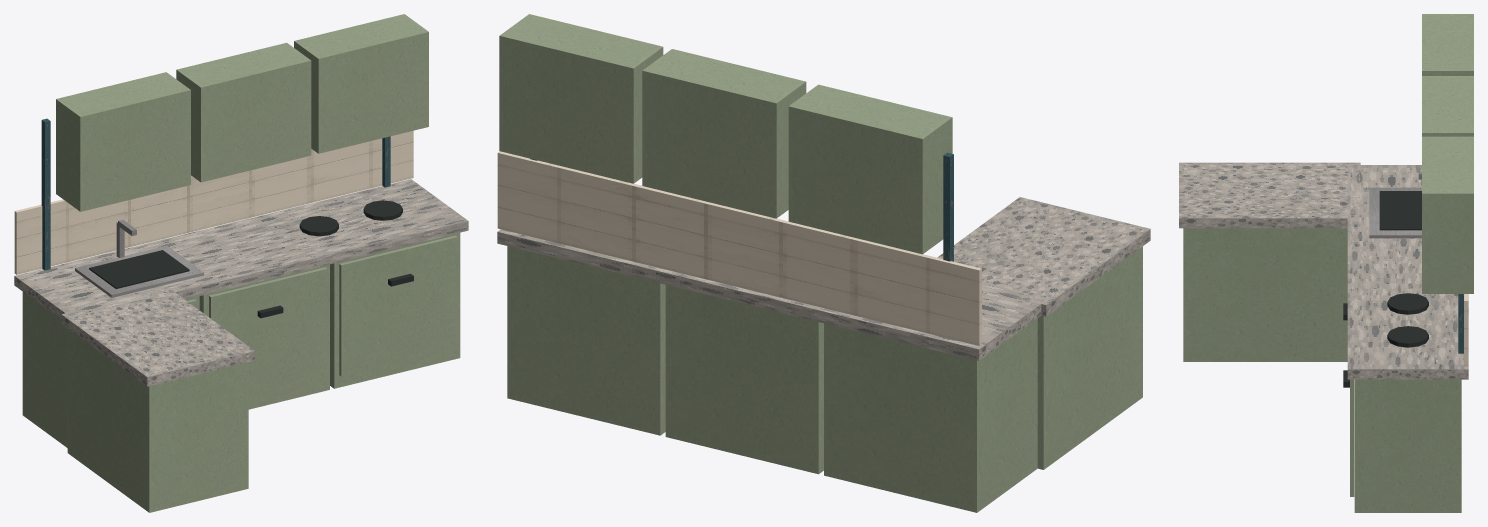
File: city_kitchen.glb
The picture shows the model from 3 angles, left to right: view 1: azimuth 30°, elevation 25°; view 2: azimuth 150°, elevation 25°; view 3: azimuth 270°, elevation 25°; orthographic projection. The views are drawn at different scales.
Parts seen in each view (by area): view 1: root; view 2: root; view 3: root.
Part boxes in pixels (left/top/right/bottom): root: left=14, top=14, right=468, bottom=512; root: left=497, top=14, right=1150, bottom=512; root: left=1179, top=14, right=1473, bottom=512.
Bounding box in the file's own units: 2.83 × 2.04 × 1.7.
Materials: 1 (1 with a texture image).
